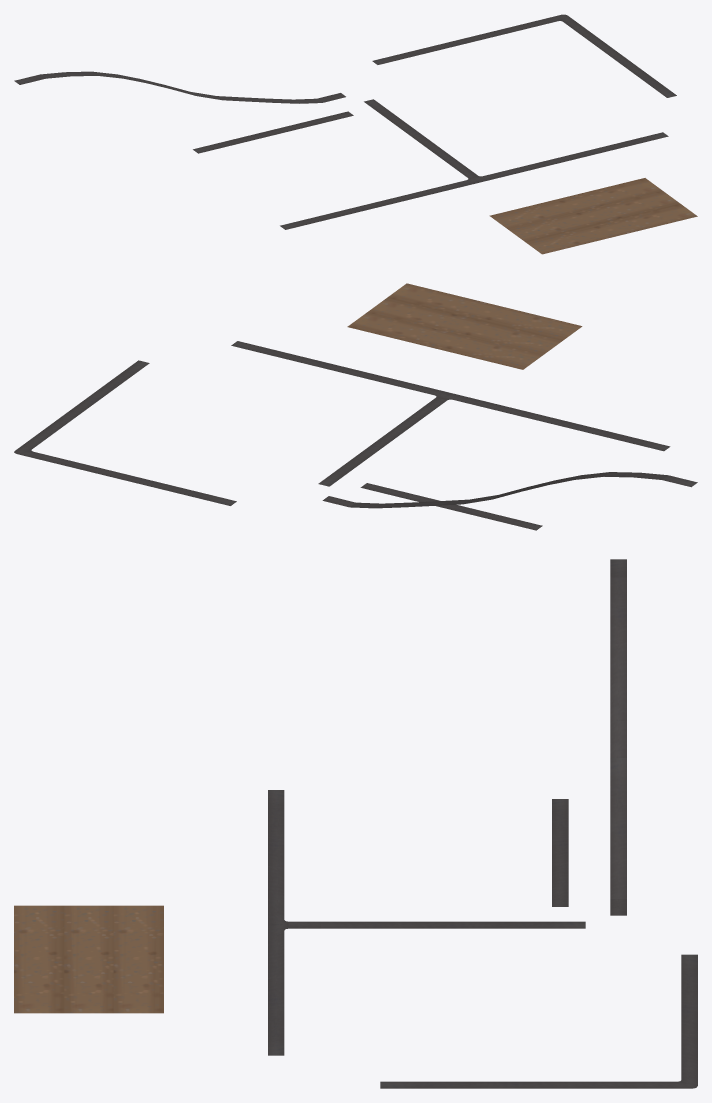
The model's file is colliders_street_mod_2.fbx.
3 views of the same model, one above another, from view 1: azimuth 30°, elevation 25°; view 2: azimuth 150°, elevation 25°; view 3: azimuth 270°, elevation 25° (orthographic). The views are drawn at different scales.
Parts seen in each view (by area): view 1: rj_road_chao, rj_road_cruzada, rj_road_curvA, rj_road_subida, rj_road_reta; view 2: rj_road_chao, rj_road_cruzada, rj_road_curvA, rj_road_subida, rj_road_reta; view 3: rj_road_chao, rj_road_cruzada, rj_road_subida, rj_road_curvA, rj_road_reta.
Boxes of the visible parts, x1,y1,x2,y2 form: rj_road_chao: [489, 178, 697, 254]; rj_road_cruzada: [280, 99, 668, 229]; rj_road_curvA: [372, 14, 676, 97]; rj_road_subida: [14, 71, 345, 103]; rj_road_reta: [193, 111, 353, 153]; rj_road_chao: [347, 283, 582, 369]; rj_road_cruzada: [231, 341, 670, 486]; rj_road_curvA: [14, 360, 236, 505]; rj_road_subida: [322, 472, 697, 508]; rj_road_reta: [360, 483, 542, 530]; rj_road_chao: [14, 905, 163, 1013]; rj_road_cruzada: [268, 790, 585, 1055]; rj_road_subida: [610, 559, 626, 915]; rj_road_curvA: [380, 954, 697, 1088]; rj_road_reta: [552, 799, 568, 906].
Size of the model in its own units: 29704 by 4531 by 21512.
